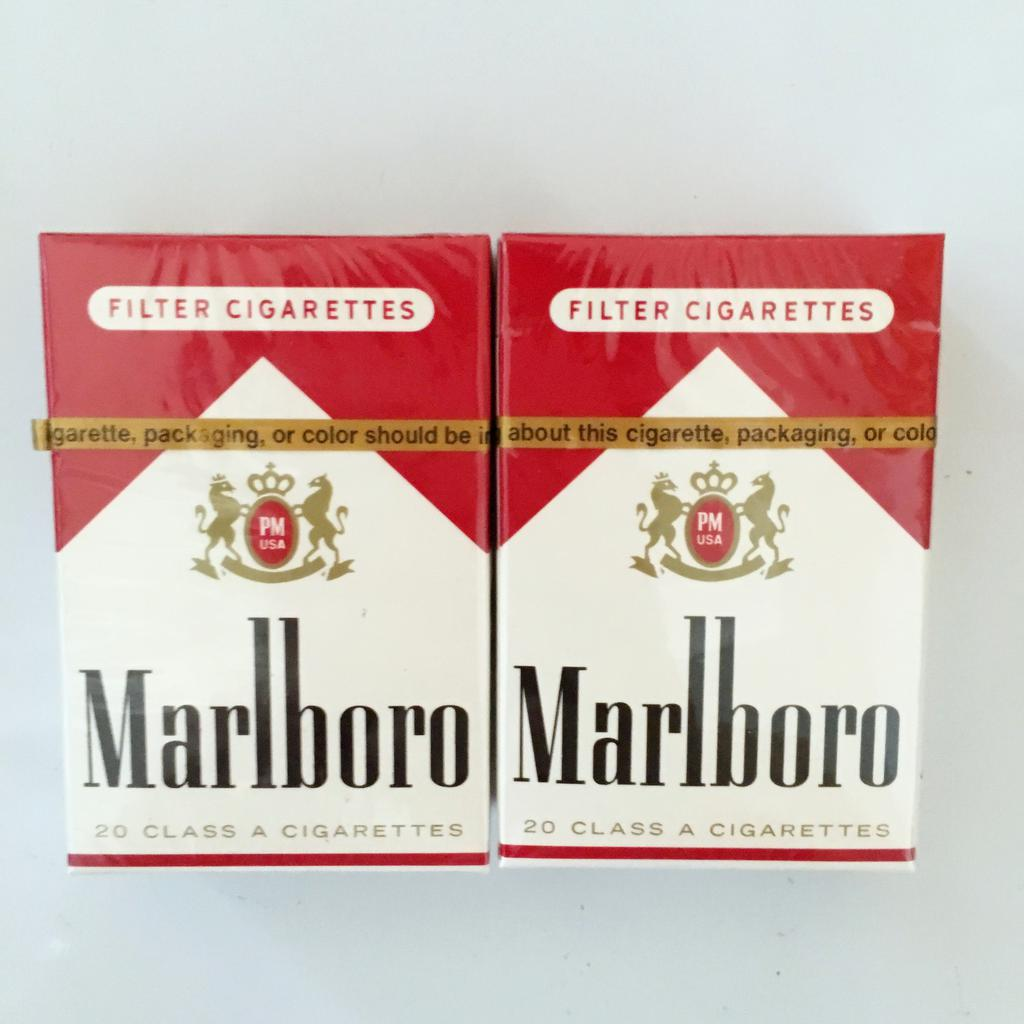marlboro_red: (56, 239, 493, 865), (499, 233, 927, 865)
